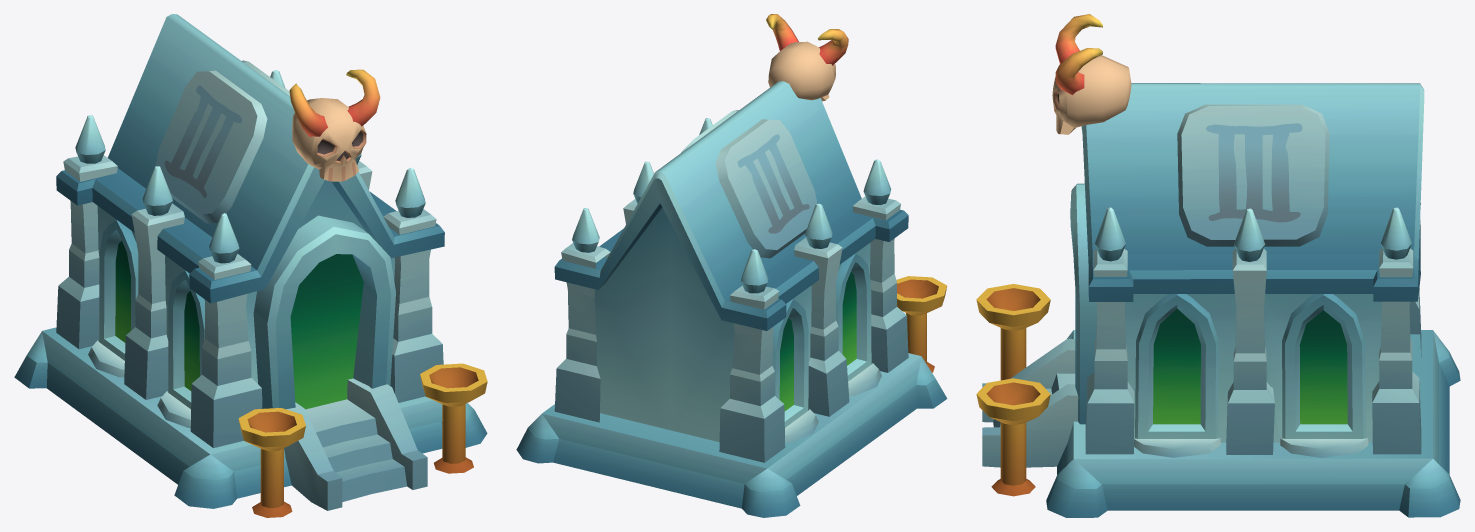
The model's file is env_Skeletons_Crypt_Spawn_lvl_3.fbx.
The picture shows the model from 3 angles, left to right: view 1: azimuth 30°, elevation 25°; view 2: azimuth 150°, elevation 25°; view 3: azimuth 270°, elevation 25°; orthographic projection. The views are drawn at different scales.
Visible parts, largest first — view 1: Skeleton_spawn_Crypt_lvl_3, Skeleton_3, Torchlight_podium_for_vfx_2, Torchlight_podium_for_vfx_1, Crypt_number_3; view 2: Skeleton_spawn_Crypt_lvl_3, Skeleton_3, Crypt_number_3, Torchlight_podium_for_vfx_1; view 3: Skeleton_spawn_Crypt_lvl_3, Skeleton_3, Crypt_number_3, Torchlight_podium_for_vfx_2, Torchlight_podium_for_vfx_1.
Boxes of the visible parts, bbox=[...] form: Skeleton_spawn_Crypt_lvl_3: bbox=[14, 14, 487, 510]; Skeleton_3: bbox=[289, 69, 380, 181]; Torchlight_podium_for_vfx_2: bbox=[420, 363, 487, 473]; Torchlight_podium_for_vfx_1: bbox=[238, 408, 305, 517]; Crypt_number_3: bbox=[164, 85, 241, 197]; Skeleton_spawn_Crypt_lvl_3: bbox=[516, 81, 947, 517]; Skeleton_3: bbox=[766, 14, 848, 101]; Crypt_number_3: bbox=[737, 134, 809, 233]; Torchlight_podium_for_vfx_1: bbox=[896, 276, 947, 372]; Skeleton_spawn_Crypt_lvl_3: bbox=[982, 83, 1460, 517]; Skeleton_3: bbox=[1052, 14, 1131, 134]; Crypt_number_3: bbox=[1206, 123, 1302, 222]; Torchlight_podium_for_vfx_2: bbox=[976, 378, 1050, 496]; Torchlight_podium_for_vfx_1: bbox=[976, 284, 1050, 380].
Bounding box in the file's own units: 504 × 619 × 664.
Materials: 2 (2 with a texture image).
